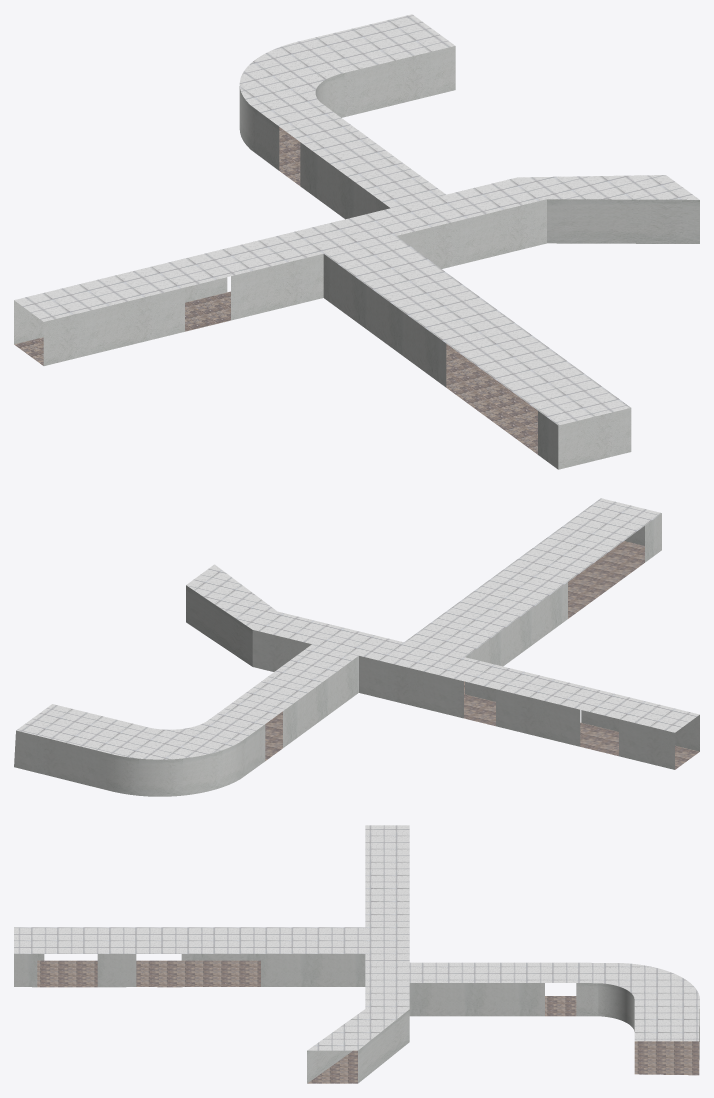
Rendered from Hallway.FBX.
3 renders of one model, top to bottom at view 1: azimuth 30°, elevation 25°; view 2: azimuth 150°, elevation 25°; view 3: azimuth 270°, elevation 25°, orthographic. The views are drawn at different scales.
Visible parts, largest first — view 1: Hallway; view 2: Hallway; view 3: Hallway.
Part boxes in pixels (x1,y1,x2,y2): Hallway: (14, 14, 699, 469); Hallway: (14, 498, 699, 796); Hallway: (14, 825, 699, 1083).
Bounding box in the file's own units: 124 × 8.49 × 159.
